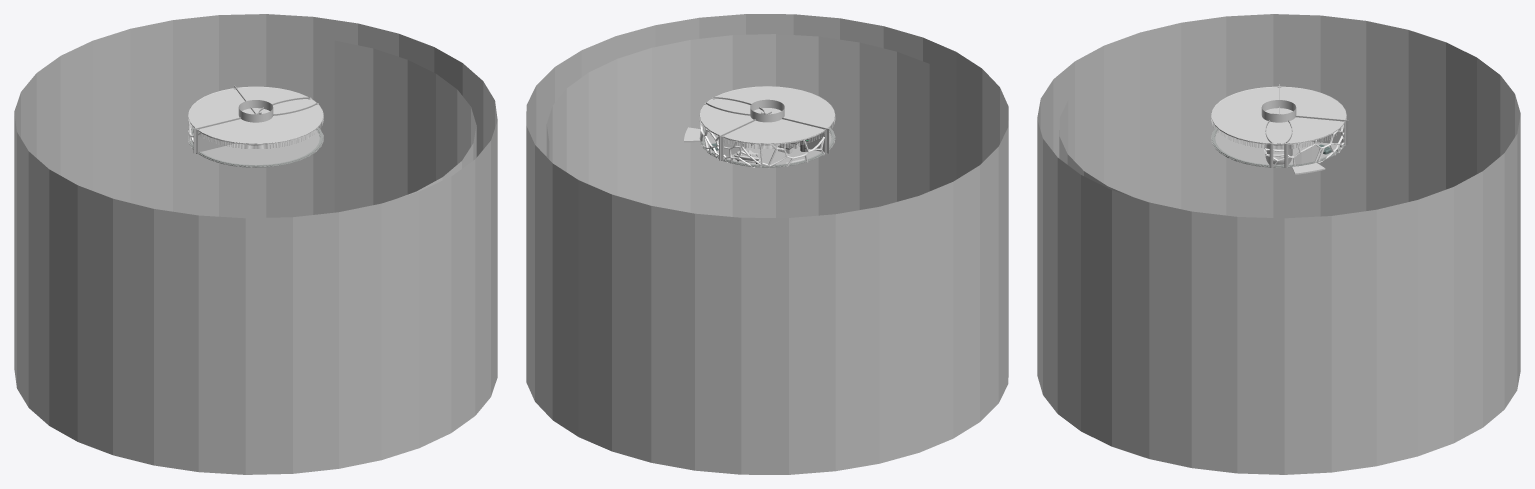
File: Scene_House1_Blockout.fbx
3 views of the same model, side by side, from view 1: azimuth 30°, elevation 25°; view 2: azimuth 150°, elevation 25°; view 3: azimuth 270°, elevation 25° (orthographic).
Parts seen in each view (by area): view 1: Cylinder.002, Cylinder.007, SM_Ceiling, SM_Floor, Shutter, Cylinder, Borders, SM_Wall1; view 2: Cylinder.002, Cylinder.007, SM_Ceiling, SM_Floor, Windowpanes, Shutter, Cylinder, Borders; view 3: Cylinder.002, SM_Ceiling, SM_Floor, Cylinder.007, Shutter, Windowpanes, Cylinder.
Boxes of the visible parts, <box> form: Cylinder.002: <box>14,14,497,474</box>; Cylinder.007: <box>334,40,476,212</box>; SM_Ceiling: <box>188,87,323,144</box>; SM_Floor: <box>188,129,323,167</box>; Shutter: <box>188,86,323,148</box>; Cylinder: <box>238,100,273,145</box>; Borders: <box>188,127,323,167</box>; SM_Wall1: <box>193,112,261,153</box>; Cylinder.002: <box>526,14,1008,474</box>; Cylinder.007: <box>546,34,929,217</box>; SM_Ceiling: <box>699,86,834,144</box>; SM_Floor: <box>699,130,835,166</box>; Windowpanes: <box>699,118,824,168</box>; Shutter: <box>699,86,835,148</box>; Cylinder: <box>750,99,784,145</box>; Borders: <box>699,127,835,167</box>; Cylinder.002: <box>1037,14,1520,474</box>; SM_Ceiling: <box>1211,87,1346,144</box>; SM_Floor: <box>1211,127,1344,167</box>; Cylinder.007: <box>1059,100,1130,196</box>; Shutter: <box>1211,86,1346,148</box>; Windowpanes: <box>1263,124,1344,168</box>; Cylinder: <box>1261,100,1296,145</box>.
Size of the model in its own units: 7146 by 4329 by 7146.
